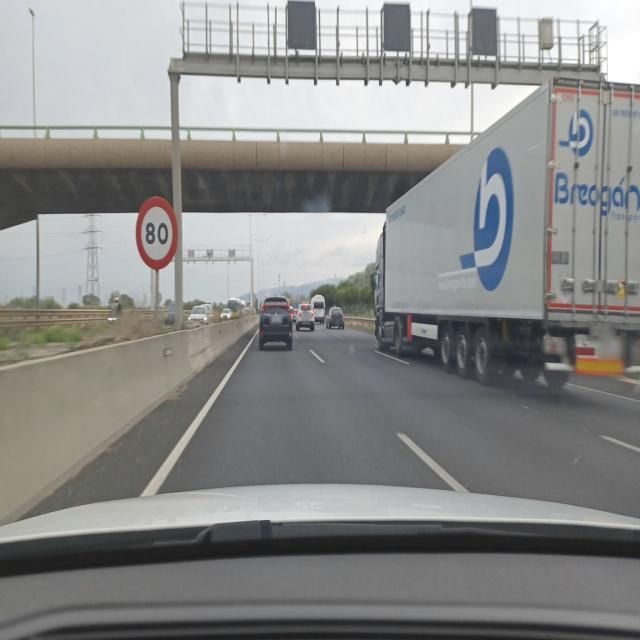car: (258, 295, 293, 351), (187, 304, 212, 328), (295, 303, 315, 332), (310, 295, 326, 325), (325, 306, 345, 330), (164, 301, 177, 325), (219, 305, 232, 321), (289, 306, 297, 322)
